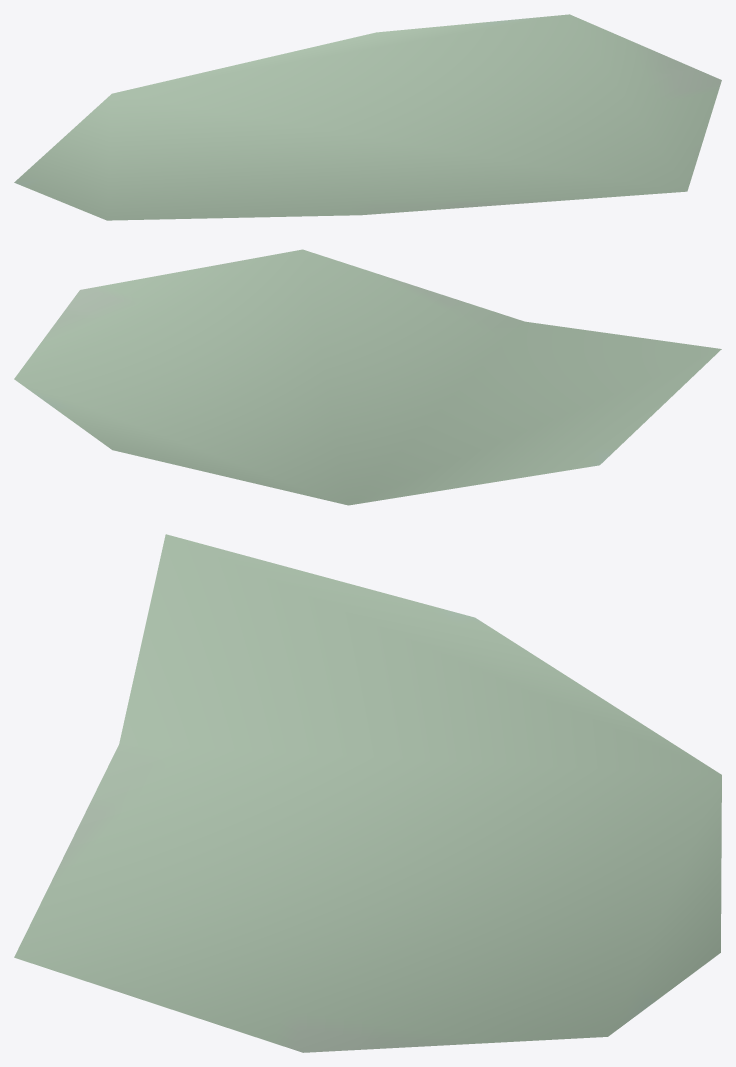
Rendered from TROLLHOLE02_HOLECAP58.fbx.
3 views of the same model, one above another, from view 1: azimuth 30°, elevation 25°; view 2: azimuth 150°, elevation 25°; view 3: azimuth 270°, elevation 25° (orthographic). The views are drawn at different scales.
Parts seen in each view (by area): view 1: TROLLHOLE02_HOLECAP58; view 2: TROLLHOLE02_HOLECAP58; view 3: TROLLHOLE02_HOLECAP58.
Part boxes in pixels (left/top/right/bottom): TROLLHOLE02_HOLECAP58: left=14, top=14, right=721, bottom=220; TROLLHOLE02_HOLECAP58: left=14, top=249, right=721, bottom=505; TROLLHOLE02_HOLECAP58: left=14, top=534, right=721, bottom=1052.
Bounding box in the file's own units: 25086 × 2817 × 17110.
Materials: 1 (1 with a texture image).
